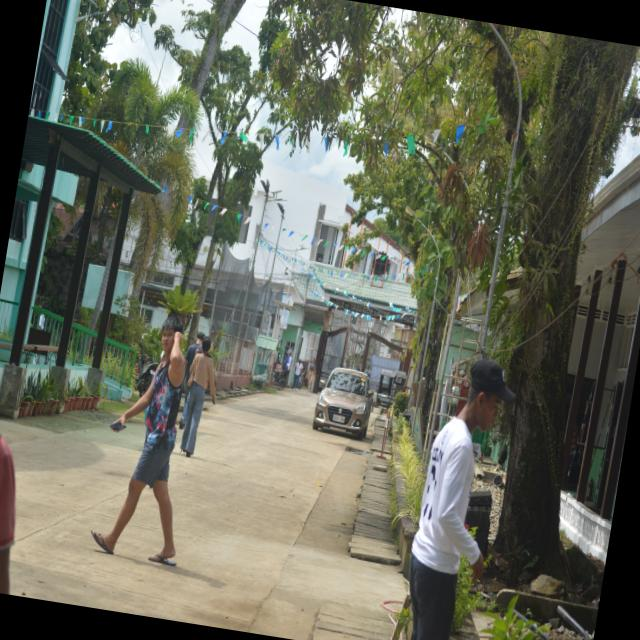person: (408, 359, 514, 639), (91, 316, 184, 565), (180, 337, 215, 457), (0, 436, 14, 593), (305, 358, 315, 393), (292, 360, 302, 390)
